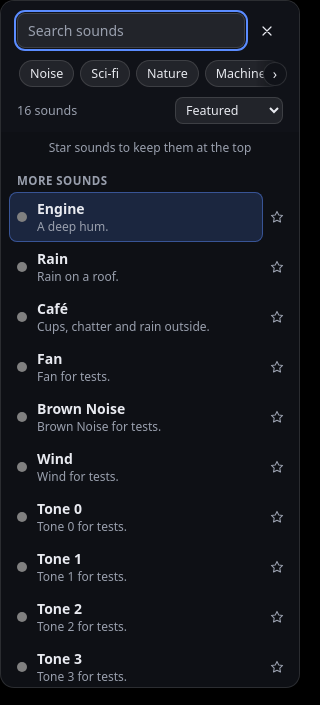
Scenario: SoundList › category chips › keeps sounds in any selected category
The width and height of the screenshot is (320, 705).
Later steps or results of the test are not shown.
Click the button "Noise". click: (47, 74)
box: [19, 60, 74, 87]
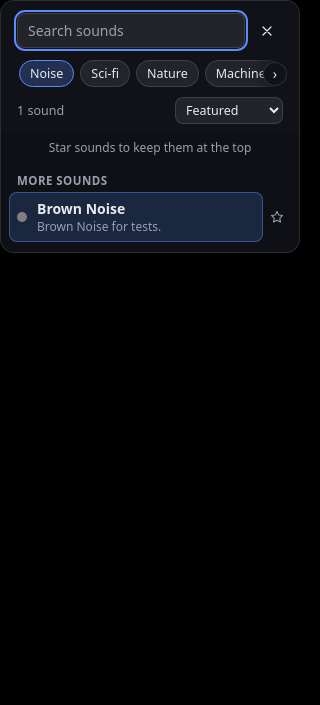
expect the button "Noise" is pressed: met, box [19, 60, 74, 87]
